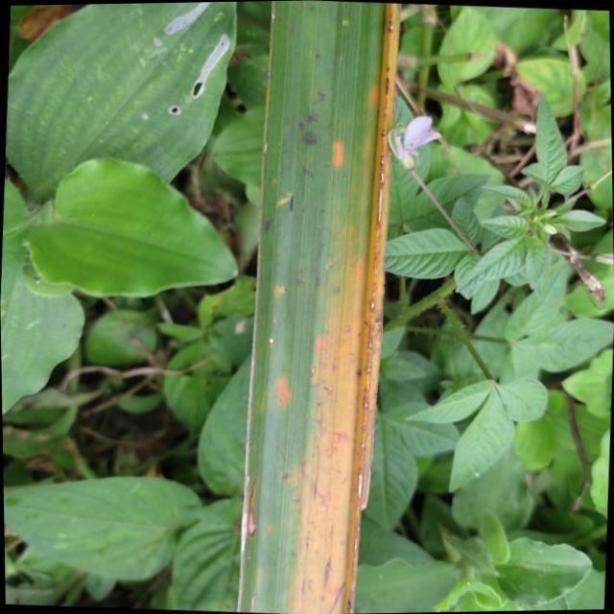Megnesium: (233, 0, 403, 614)
